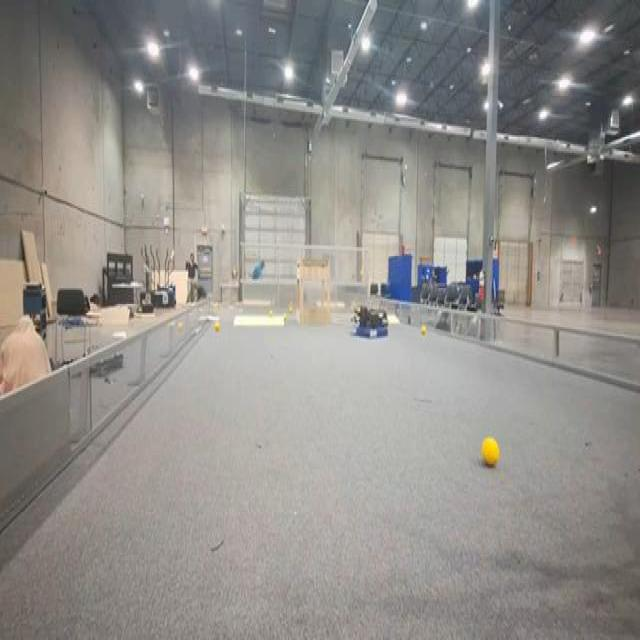Fuel: (481, 437, 499, 466), (421, 325, 427, 336), (177, 322, 184, 331), (214, 322, 219, 331)
